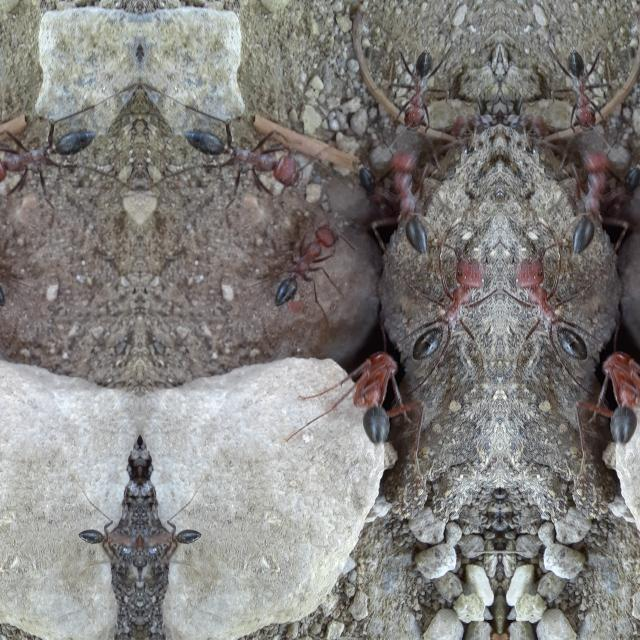Cataglyphis: (178, 99, 310, 215), (410, 238, 494, 380), (506, 238, 590, 380), (0, 99, 100, 215), (344, 338, 414, 467), (266, 210, 344, 324), (586, 336, 640, 466), (382, 144, 438, 268), (562, 144, 618, 268), (395, 34, 445, 140), (555, 34, 605, 140), (148, 514, 204, 560), (76, 514, 132, 560), (353, 162, 392, 224), (606, 162, 640, 222), (454, 100, 496, 148), (504, 100, 546, 148)
